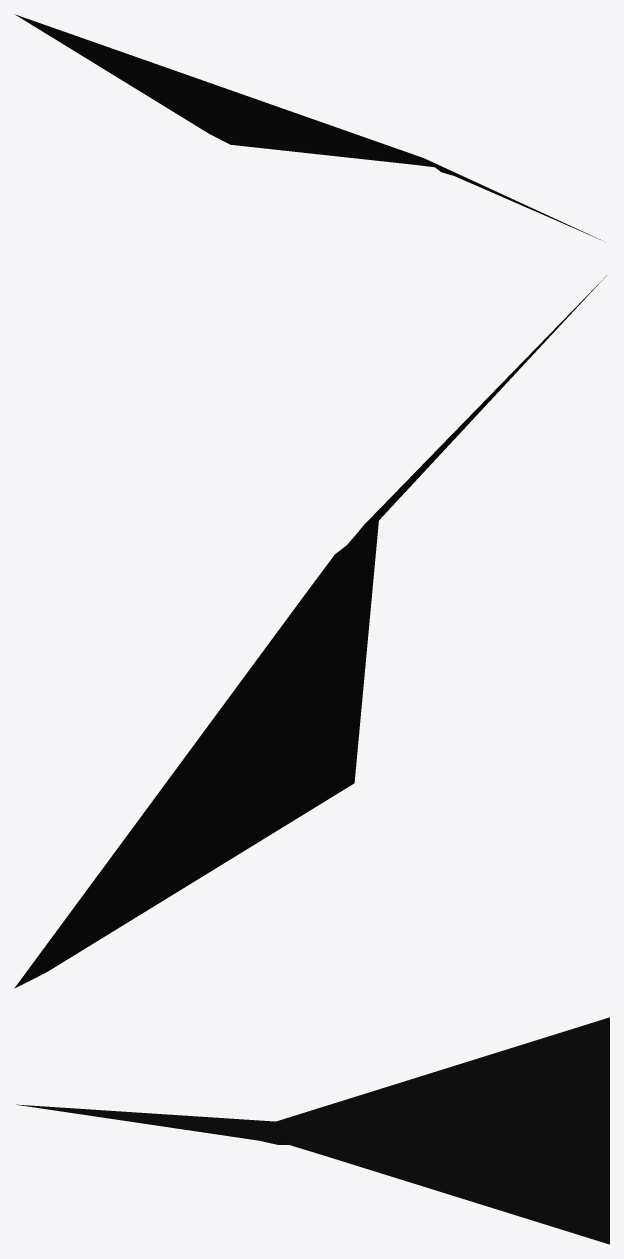
3 views of the same model, one above another, from view 1: azimuth 30°, elevation 25°; view 2: azimuth 150°, elevation 25°; view 3: azimuth 270°, elevation 25° (orthographic). The views are drawn at different scales.
Size of the model in its own units: 4.51 by 3.66 by 13.68.
1 material, 1 textured.
